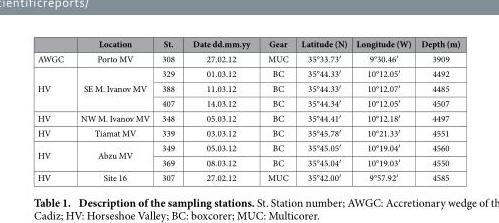table: (36, 37, 459, 183)
table column: (71, 37, 155, 183), (183, 37, 258, 183), (351, 37, 415, 183), (294, 37, 351, 183), (415, 37, 459, 183), (258, 37, 294, 183), (36, 37, 71, 183), (155, 37, 183, 183)
table column header: (36, 37, 459, 50)
table row: (36, 50, 459, 65), (36, 65, 459, 80), (36, 80, 459, 95), (36, 95, 459, 110), (36, 110, 459, 125), (36, 125, 459, 140), (36, 154, 459, 169), (36, 140, 459, 154), (36, 169, 459, 183), (36, 37, 459, 50)
table spanning cell: (71, 65, 155, 110), (71, 140, 155, 169), (36, 65, 71, 110), (36, 140, 71, 169)
